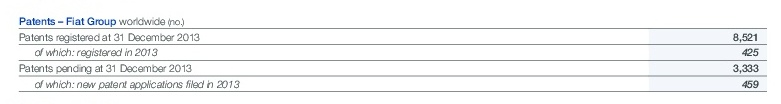table: (0, 0, 781, 104)
